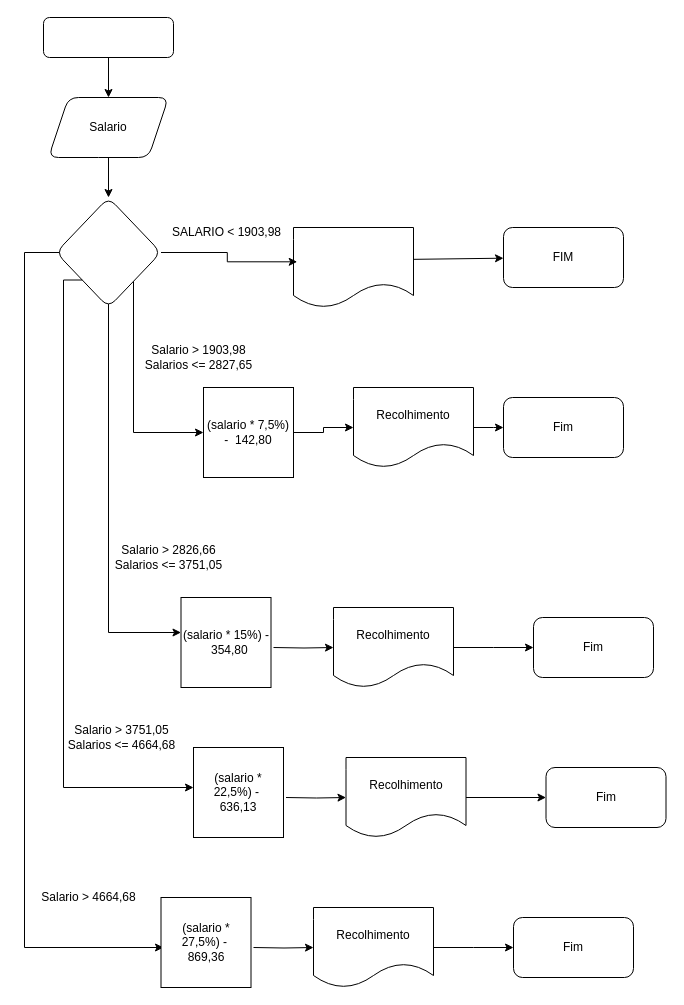
Some shapes in this 684 by 1005 pixel diagram are drawn without their labels. Here are the shapes that lost their labels. From the top down, the centre of each, then its label:
the point at 108,37: INICIO
the point at 108,252: IF
the point at 353,267: ISENTO
